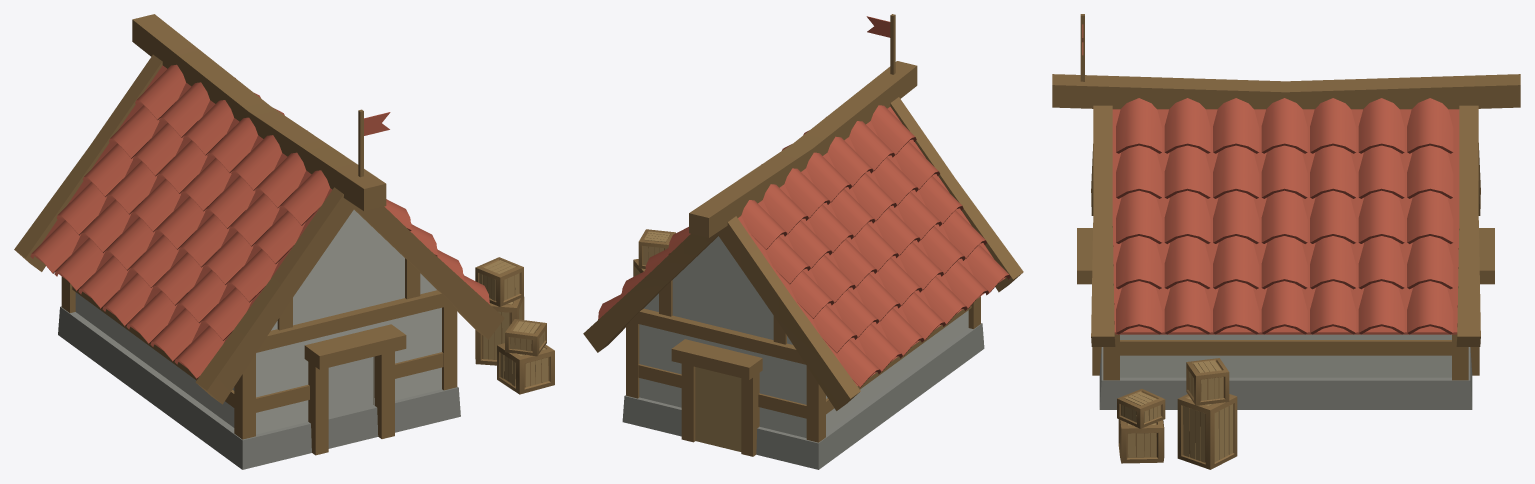
The model's file is House.glb.
3 renders of one model, left to right at view 1: azimuth 30°, elevation 25°; view 2: azimuth 150°, elevation 25°; view 3: azimuth 270°, elevation 25°, orthographic. The views are drawn at different scales.
Parts seen in each view (by area): view 1: Houses_SecondAge_1_Level2; view 2: Houses_SecondAge_1_Level2; view 3: Houses_SecondAge_1_Level2.
Boxes of the visible parts, x1,y1,x2,y2 form: Houses_SecondAge_1_Level2: (14, 14, 554, 469); Houses_SecondAge_1_Level2: (583, 14, 1023, 469); Houses_SecondAge_1_Level2: (1052, 14, 1520, 469).
Size of the model in its own units: 1.11 by 0.9521 by 1.17.
